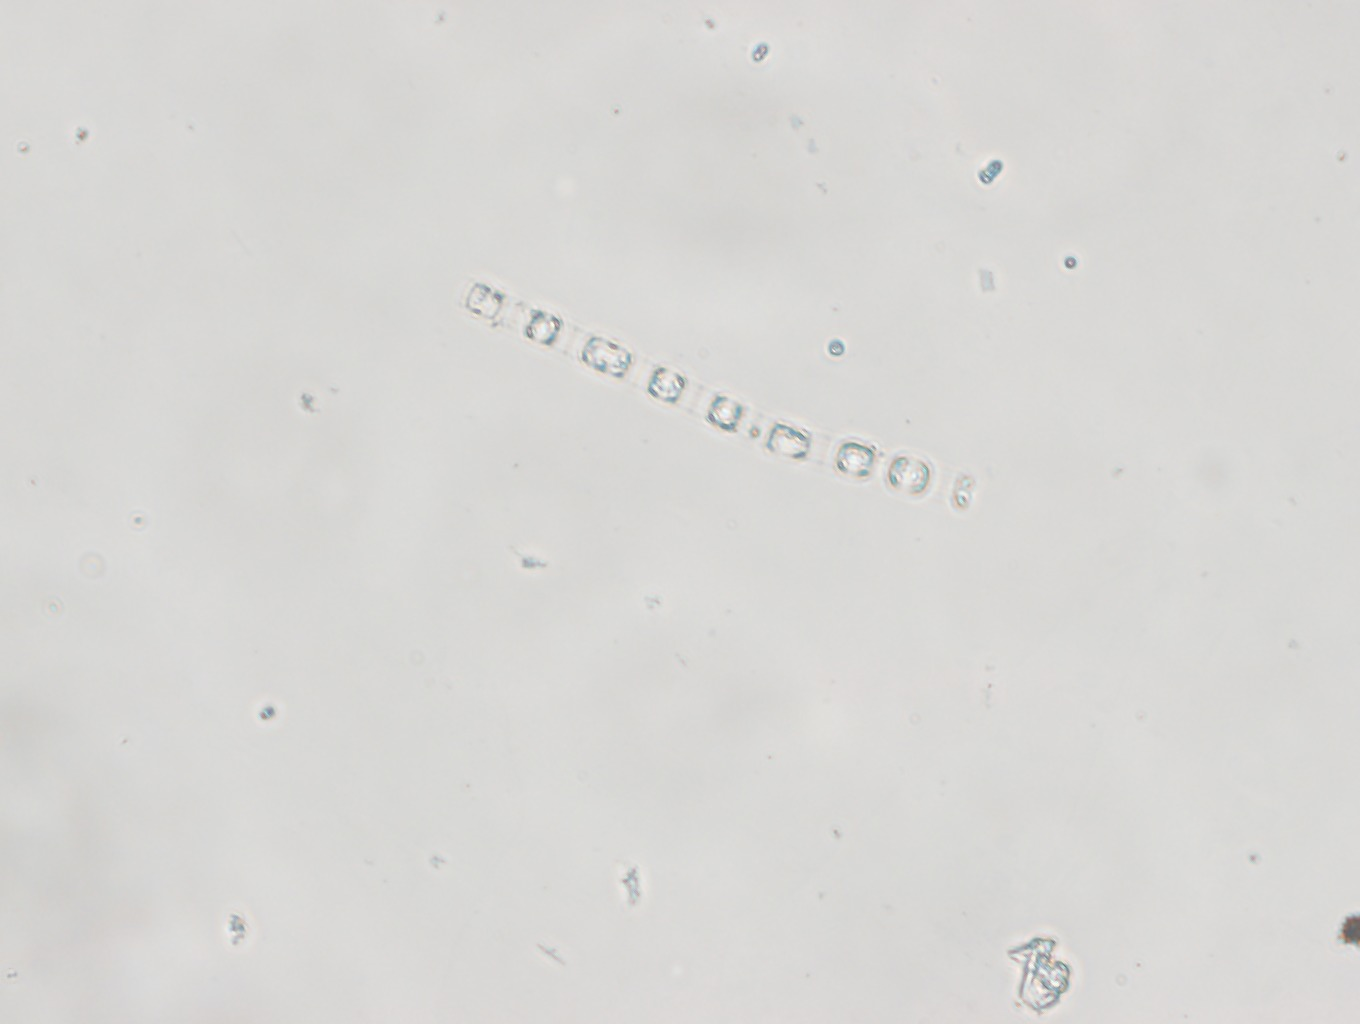skeletonema: (455, 272, 987, 520)
